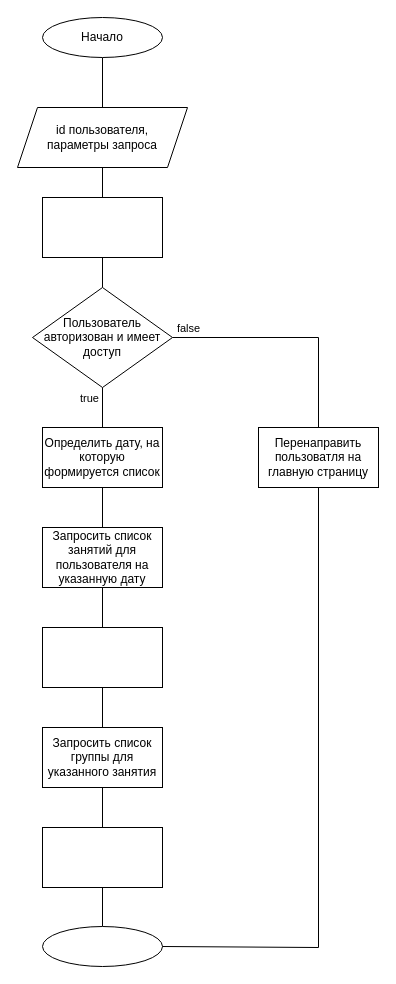
The diagram is 396 pixels wide and 984 high, and some of its shapes have lost their labels. Here are the shapes that lost their labels. From the top down, the box of each, then its label:
(42, 196, 162, 258): Проверить наличие авторизации и прав доступа
(42, 626, 162, 688): Определить номер занятия для формирования списка группы
(42, 826, 162, 888): Отприсовать таблицу посещаемости для группы
(42, 926, 162, 966): Конец
